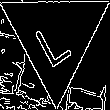L_NW: (33, 7, 78, 67)
